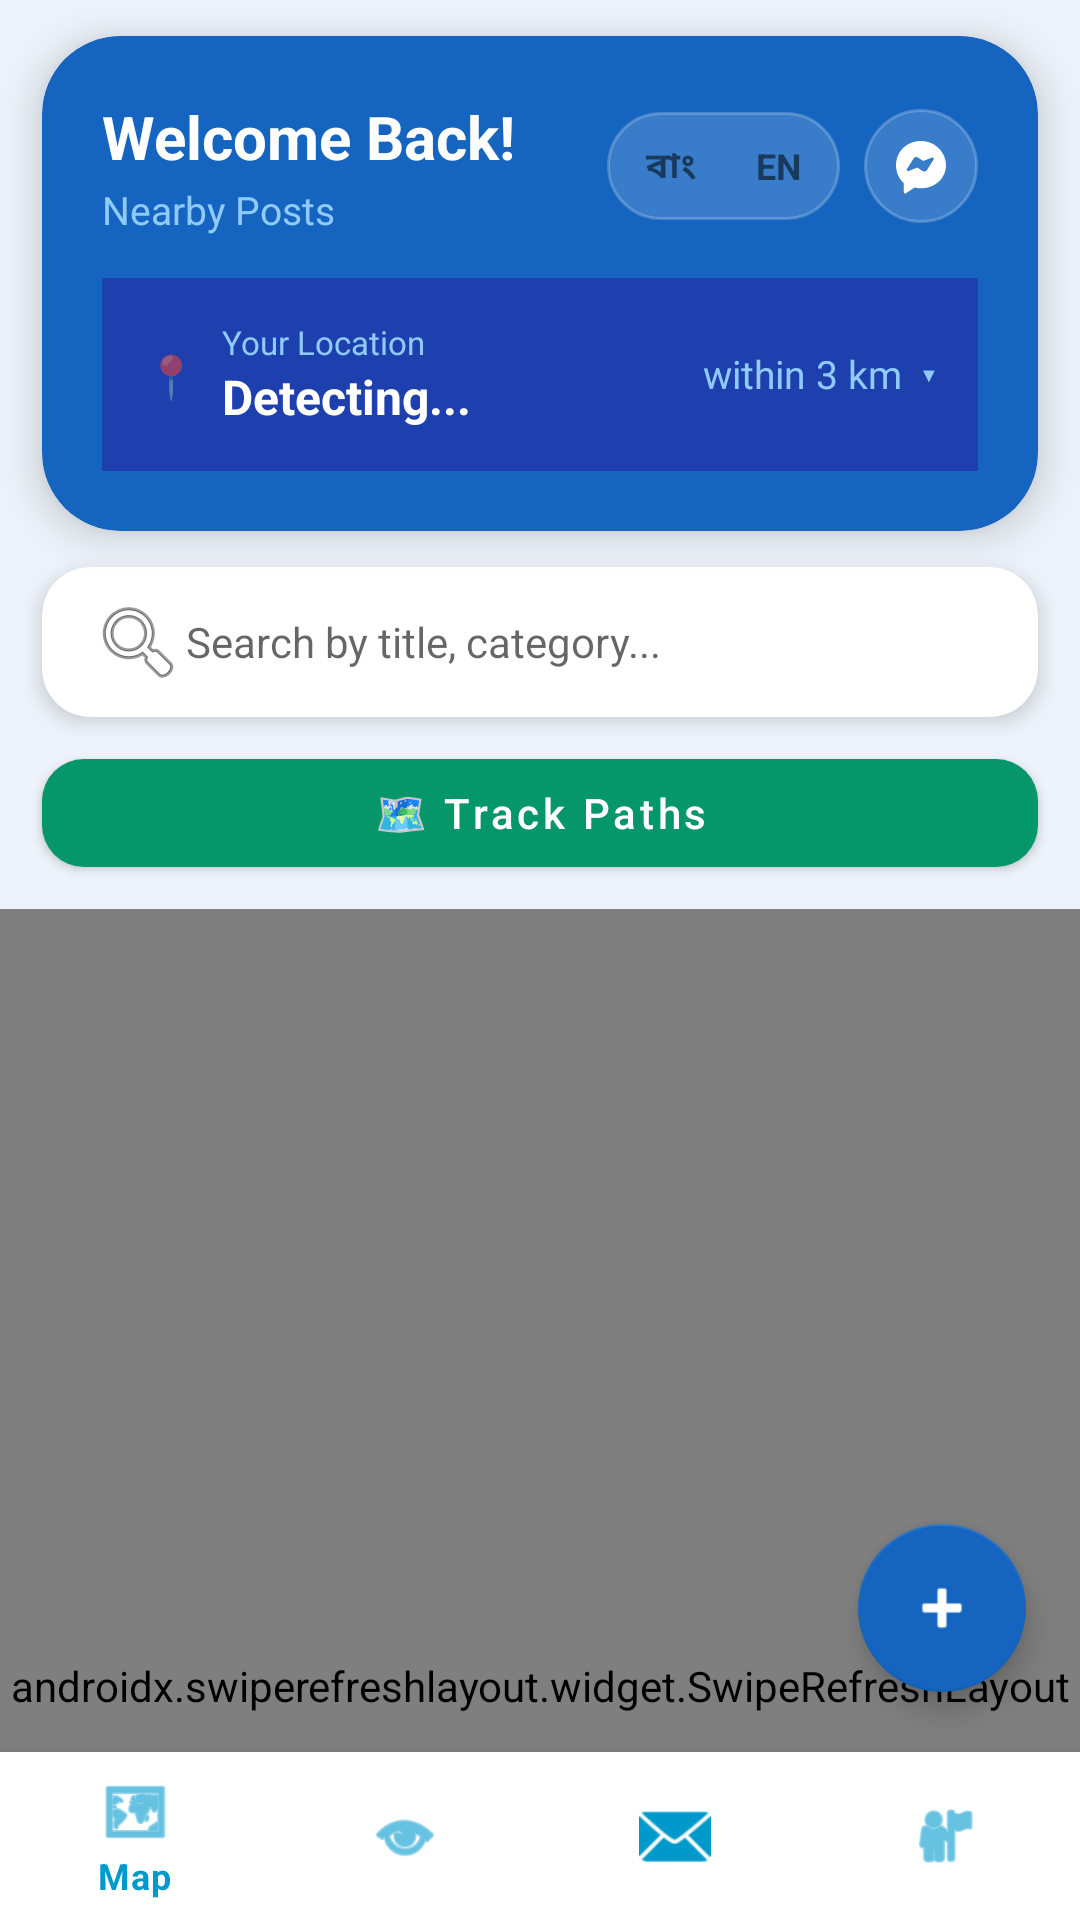

Icons on this 1080 x 1920 Android screen, each with the point to tap as (x,y):
Add announcement: (942,1608)
